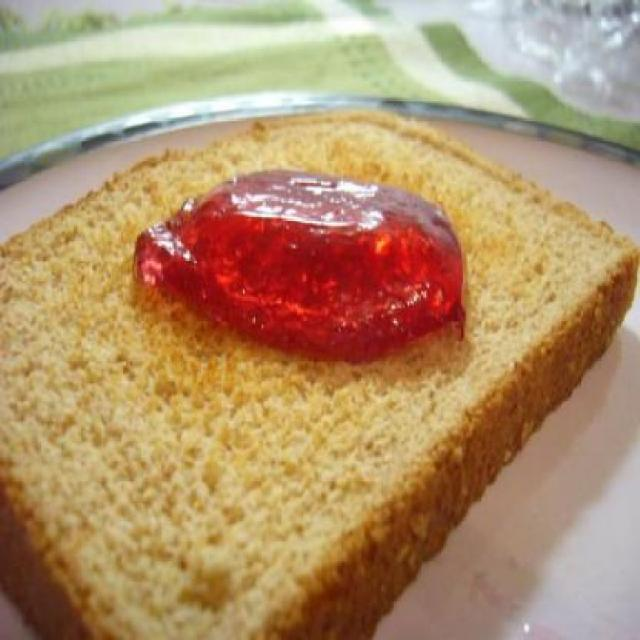Spread: (128, 170, 478, 358)
